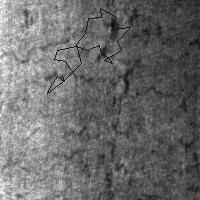crazing: (8, 27, 172, 110), (50, 115, 147, 199), (47, 8, 130, 93)
